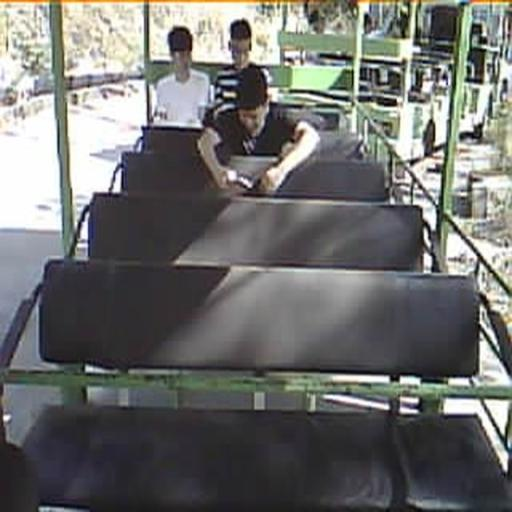persona: (197, 64, 321, 194), (153, 25, 211, 124), (212, 18, 272, 112)
